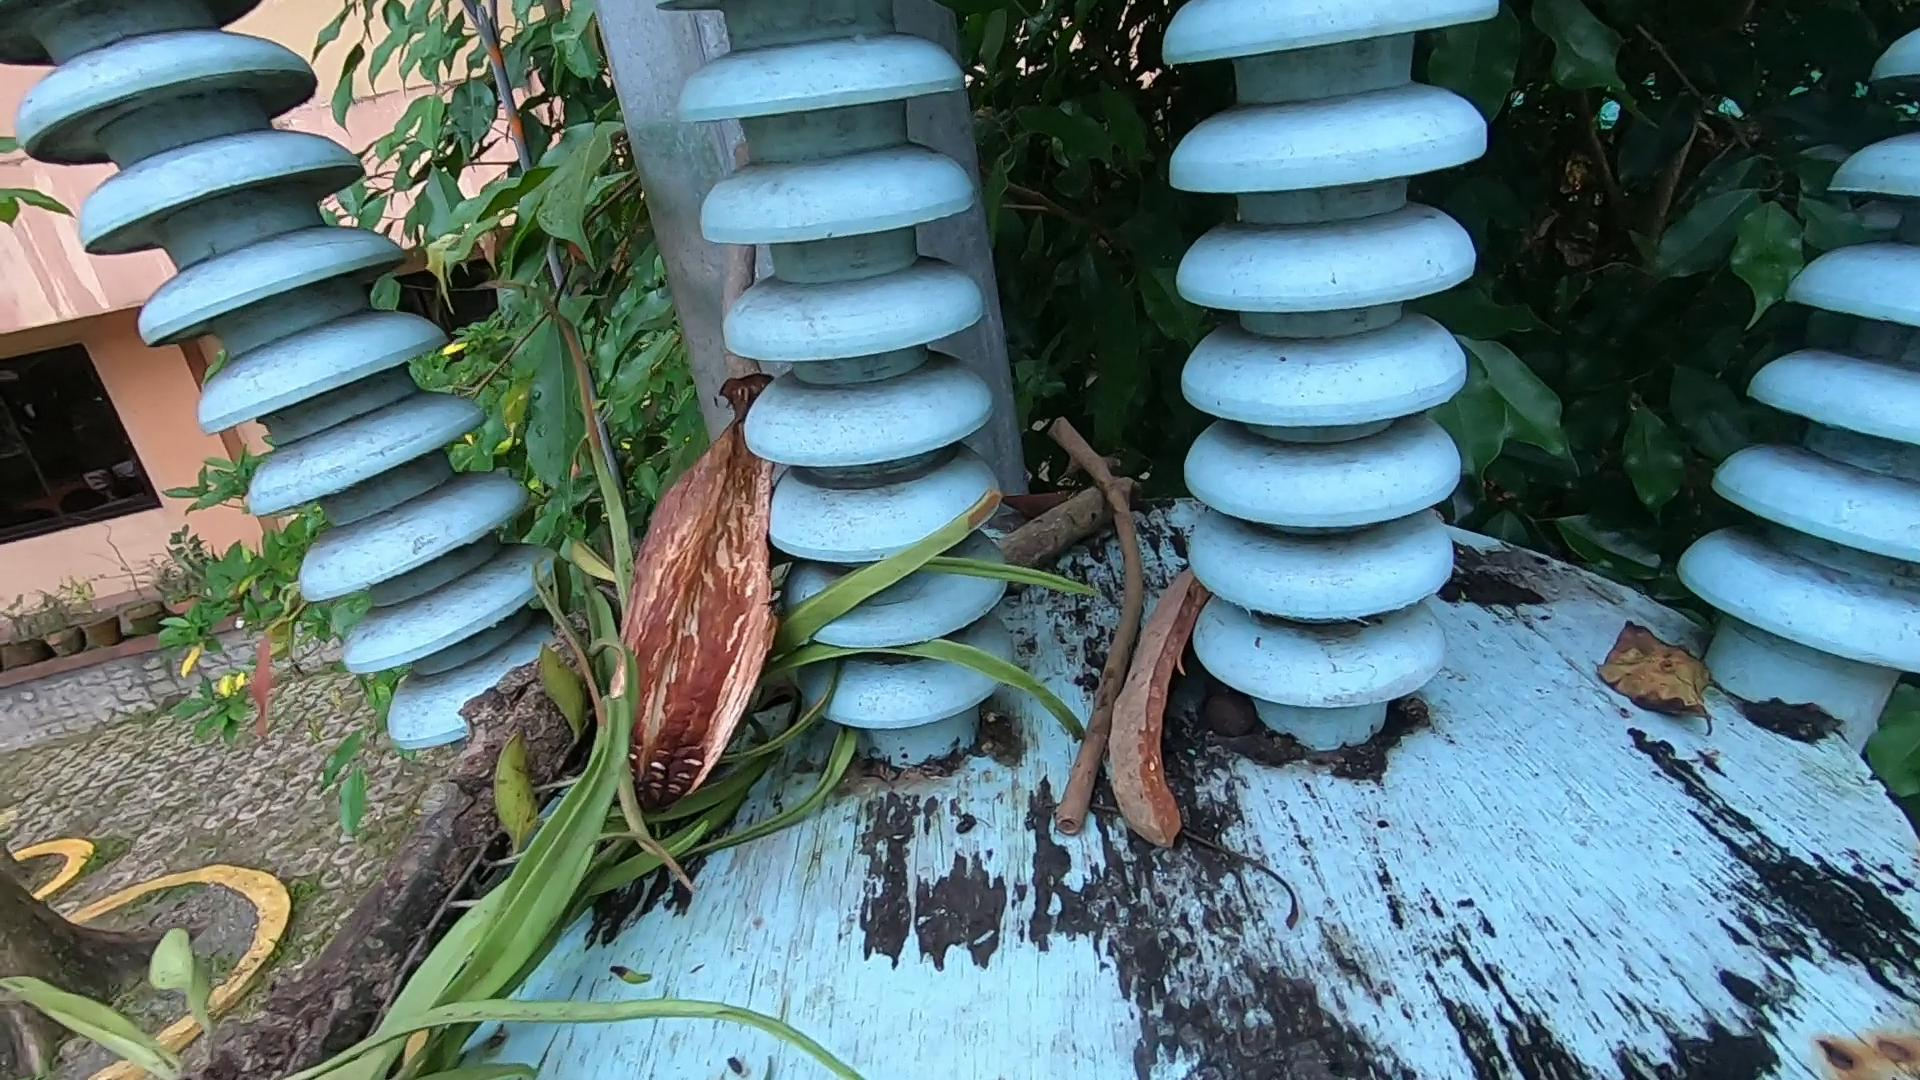branch with leaves: (7, 262, 1101, 1080)
leaf: (1586, 617, 1733, 736)
mahogany fruit: (583, 345, 791, 775), (1124, 553, 1265, 887)
tree branch: (1047, 398, 1143, 832), (997, 465, 1133, 574)
